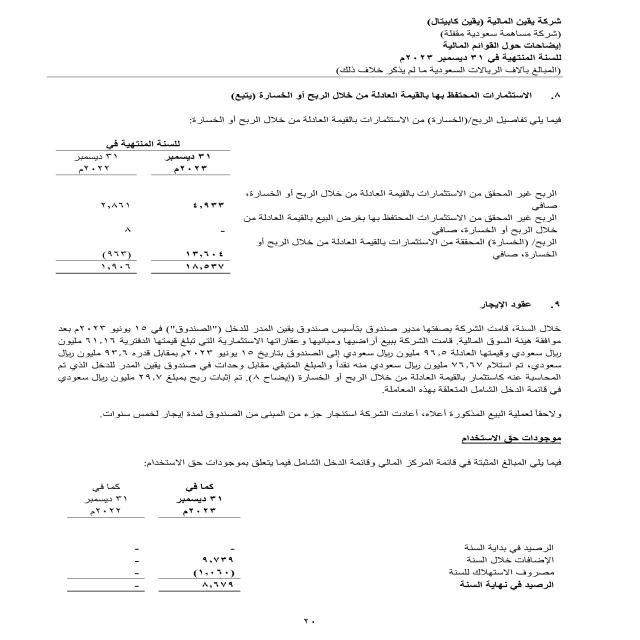notes: (431, 39, 566, 52)
table: (23, 132, 235, 282), (44, 475, 244, 611)
